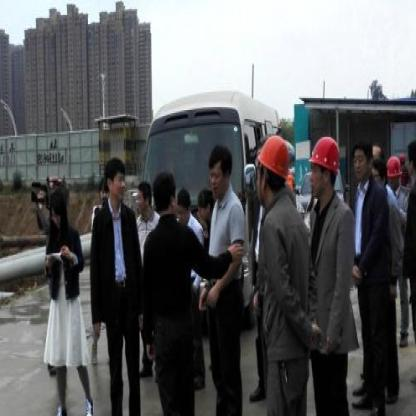head: (152, 170, 182, 223), (100, 158, 127, 209), (210, 145, 235, 200), (352, 136, 374, 184), (47, 188, 67, 236), (196, 186, 216, 230), (175, 187, 192, 237), (135, 180, 153, 222), (406, 134, 416, 188)
helmet: (255, 133, 291, 205), (307, 132, 341, 206), (386, 154, 402, 193)
